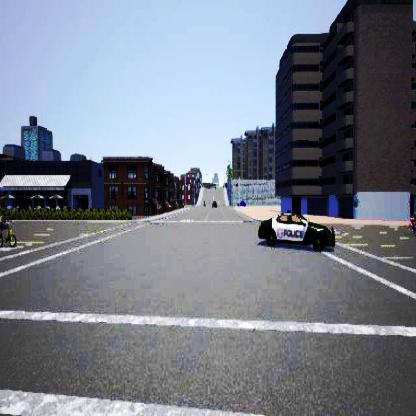bike: (0, 209, 19, 249), (404, 204, 415, 238)
vehicle: (257, 209, 335, 251)
